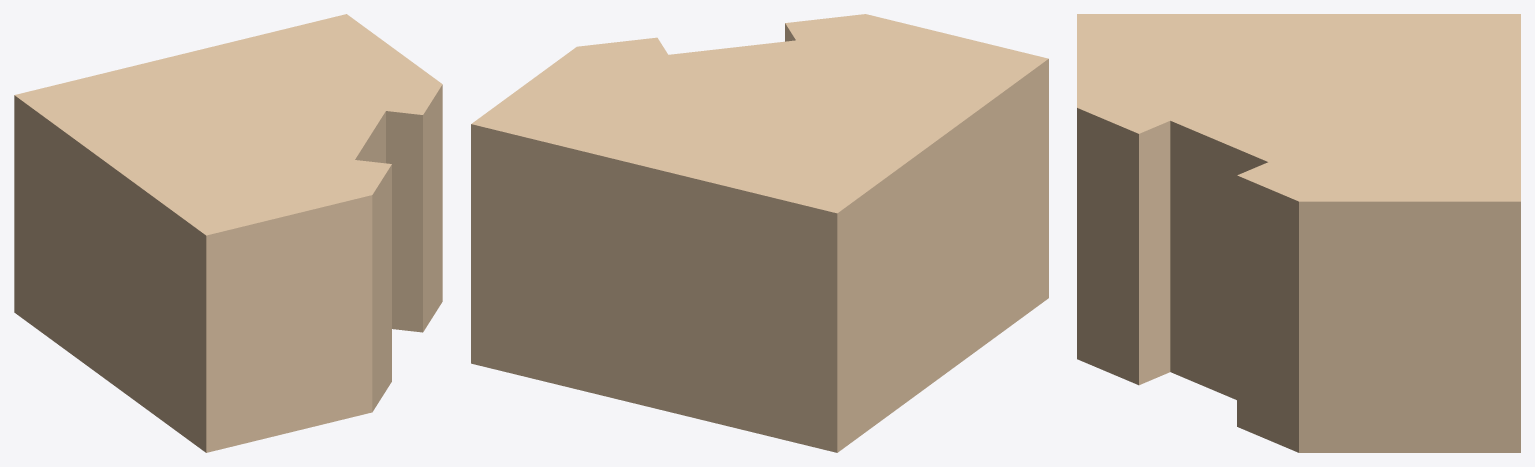
The model's file is building-corner-window-middle.obj.
3 views of the same model, side by side, from view 1: azimuth 30°, elevation 25°; view 2: azimuth 150°, elevation 25°; view 3: azimuth 270°, elevation 25° (orthographic). The views are drawn at different scales.
Bounding box in the file's own units: 1 × 0.625 × 1.
